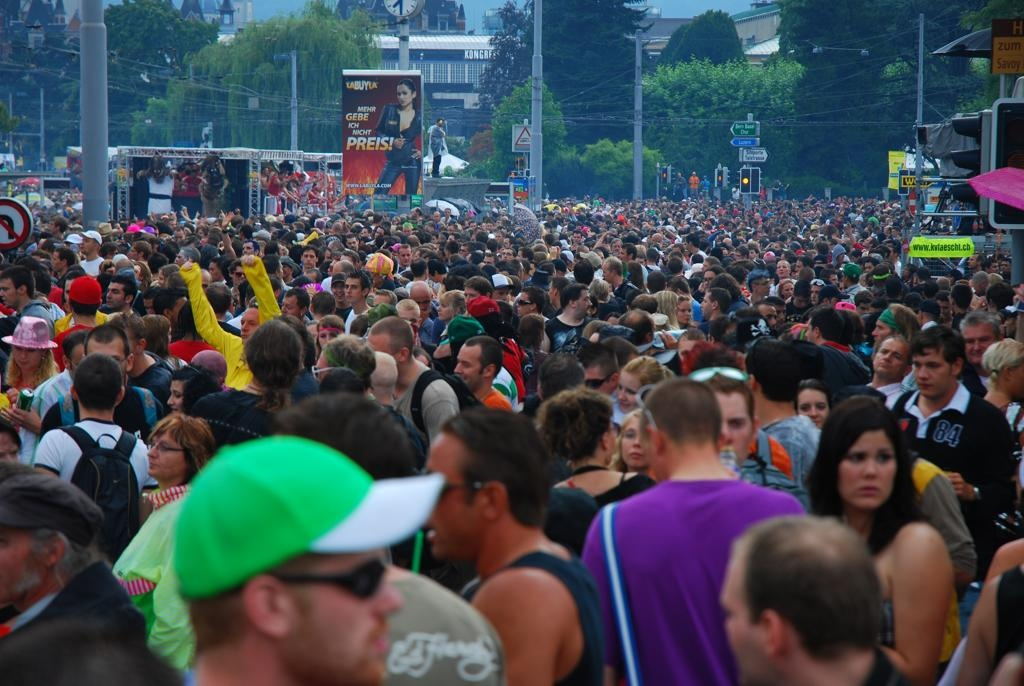human_face: (293, 544, 399, 682), (721, 588, 797, 686), (420, 448, 486, 558), (837, 434, 895, 508), (1, 514, 47, 600), (698, 395, 750, 469), (914, 347, 952, 397), (88, 346, 126, 388), (148, 434, 184, 476), (622, 423, 656, 467), (583, 367, 615, 411), (796, 390, 826, 432), (963, 328, 997, 362), (455, 350, 483, 390), (616, 376, 644, 411), (874, 344, 906, 374), (370, 340, 398, 372), (69, 349, 95, 383), (12, 340, 40, 368), (166, 385, 190, 416), (0, 436, 19, 474), (240, 312, 262, 344), (872, 318, 894, 349), (756, 307, 776, 335), (0, 278, 20, 306), (396, 311, 418, 335), (318, 327, 340, 351), (464, 288, 484, 312), (573, 292, 591, 318), (65, 280, 83, 306), (411, 292, 429, 316), (344, 278, 362, 302), (106, 284, 124, 308), (281, 299, 299, 323), (803, 320, 819, 346), (436, 298, 454, 320), (490, 286, 508, 306), (676, 303, 692, 323), (331, 280, 347, 300), (396, 86, 412, 106), (772, 305, 786, 327), (144, 298, 158, 320), (936, 300, 952, 318), (702, 271, 716, 291), (516, 295, 530, 315), (756, 277, 770, 295), (700, 296, 714, 314), (794, 294, 810, 308), (782, 282, 794, 300), (826, 297, 840, 312), (80, 237, 94, 252), (810, 286, 822, 302), (858, 302, 870, 318), (601, 266, 613, 282), (242, 243, 254, 259), (303, 251, 315, 267), (236, 267, 248, 283), (174, 251, 186, 267), (51, 254, 63, 270), (129, 266, 139, 284), (548, 284, 558, 301), (776, 263, 788, 277), (208, 264, 220, 278), (158, 274, 170, 288), (399, 249, 409, 265), (107, 248, 117, 264), (173, 230, 183, 246), (128, 245, 138, 260), (632, 258, 644, 270), (988, 262, 998, 276), (841, 273, 851, 287), (865, 262, 875, 276), (828, 275, 838, 289), (794, 262, 804, 276), (280, 262, 290, 276), (968, 255, 978, 267), (610, 242, 620, 254), (618, 250, 628, 262), (501, 250, 511, 262), (482, 257, 492, 269), (427, 271, 439, 281), (346, 238, 356, 250), (46, 220, 56, 232), (516, 252, 524, 266), (1000, 262, 1010, 272), (886, 248, 894, 260), (701, 262, 709, 274), (503, 239, 511, 251), (526, 264, 534, 276), (167, 220, 175, 232), (446, 234, 454, 245), (836, 249, 844, 259), (850, 254, 860, 262), (374, 229, 382, 239), (608, 228, 616, 238), (460, 247, 466, 258), (747, 248, 755, 256), (684, 240, 692, 248), (863, 237, 871, 245), (772, 244, 780, 252), (572, 234, 580, 242), (428, 235, 436, 243), (380, 224, 388, 232), (446, 226, 454, 234), (902, 266, 908, 276), (734, 252, 740, 262), (755, 232, 761, 242), (438, 234, 444, 244), (646, 234, 652, 244), (197, 228, 203, 237), (726, 222, 732, 230), (690, 221, 696, 229), (642, 226, 648, 234), (586, 229, 592, 237), (486, 222, 492, 230), (427, 227, 433, 235), (361, 228, 367, 236), (404, 228, 410, 236), (789, 220, 795, 228), (739, 222, 745, 229), (626, 219, 632, 226), (470, 222, 476, 229), (433, 214, 439, 221), (866, 222, 872, 228), (495, 234, 501, 240), (804, 230, 808, 238), (500, 226, 504, 234), (412, 208, 416, 216), (810, 229, 816, 234), (892, 229, 896, 236), (496, 219, 500, 226), (417, 219, 421, 226), (444, 210, 448, 216), (783, 224, 787, 230), (481, 224, 485, 229)
